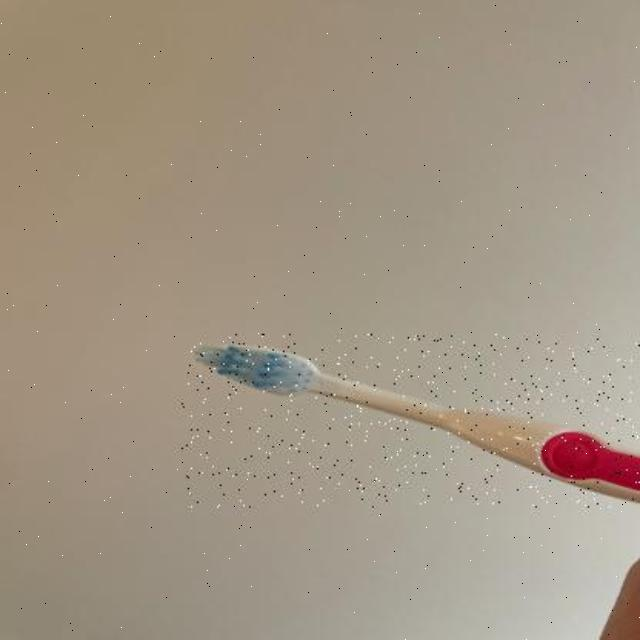toothbrush: (182, 334, 640, 508)
